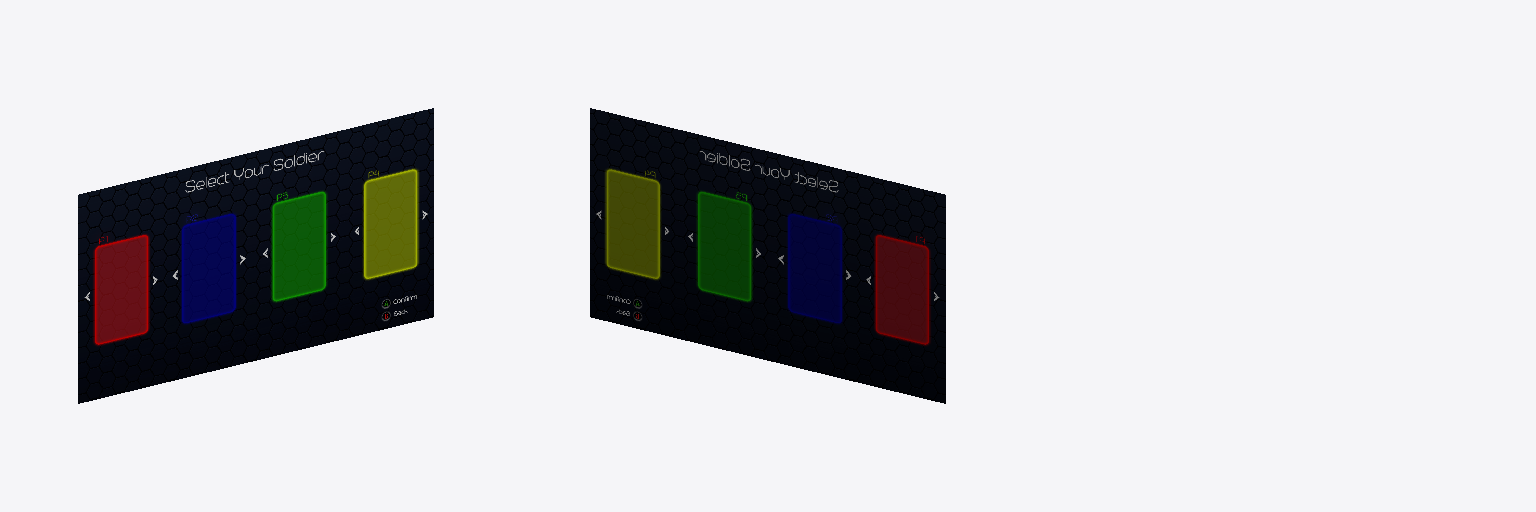
3 views of the same model, side by side, from view 1: azimuth 30°, elevation 25°; view 2: azimuth 150°, elevation 25°; view 3: azimuth 270°, elevation 25° (orthographic).
Visible parts, largest first — view 1: Plane; view 2: Plane; view 3: none.
Boxes of the visible parts, x1,y1,x2,y2 form: Plane: [78, 108, 433, 403]; Plane: [590, 108, 945, 403].
Size of the model in its own units: 240 by 135 by 0.
1 materials, 1 textured.